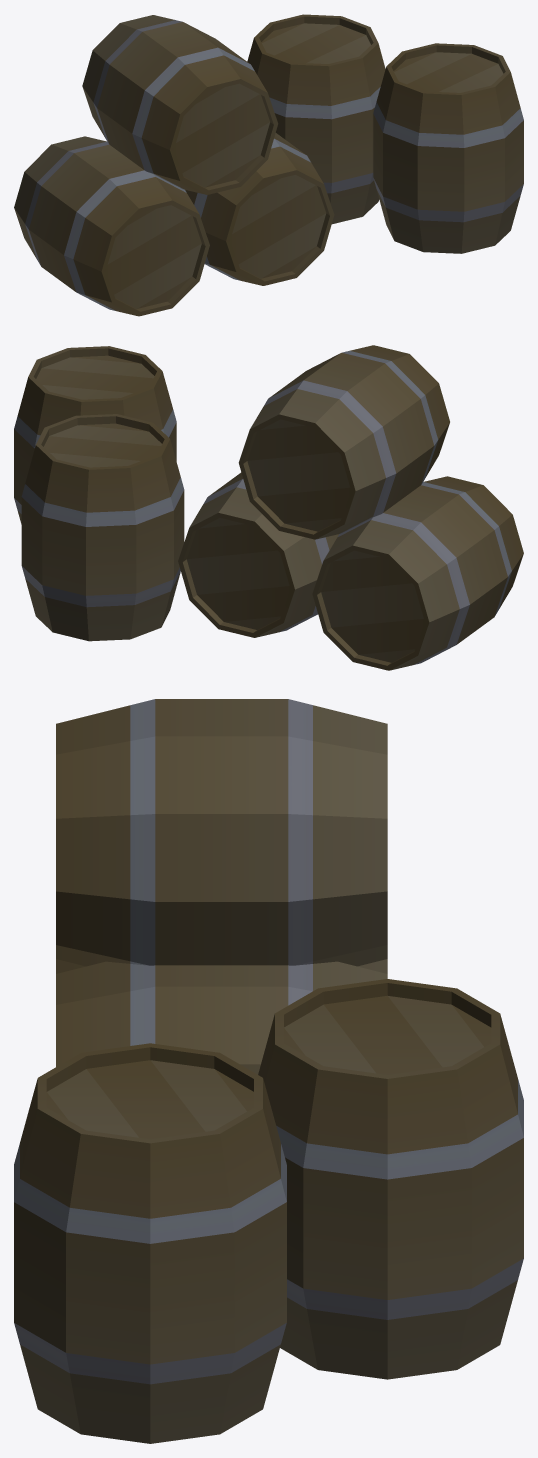
Rendered from Barrel_1D_LOD1.fbx.
The picture shows the model from 3 angles, top to bottom: view 1: azimuth 30°, elevation 25°; view 2: azimuth 150°, elevation 25°; view 3: azimuth 270°, elevation 25°; orthographic projection. The views are drawn at different scales.
Parts seen in each view (by area): view 1: polySurface9637; view 2: polySurface9637; view 3: polySurface9637.
Boxes of the visible parts, x1=… form: polySurface9637: x1=14, y1=14, x2=523, y2=316; polySurface9637: x1=14, y1=345, x2=523, y2=670; polySurface9637: x1=14, y1=699, x2=523, y2=1443.
Bounding box in the file's own units: 497 × 249 × 258.
